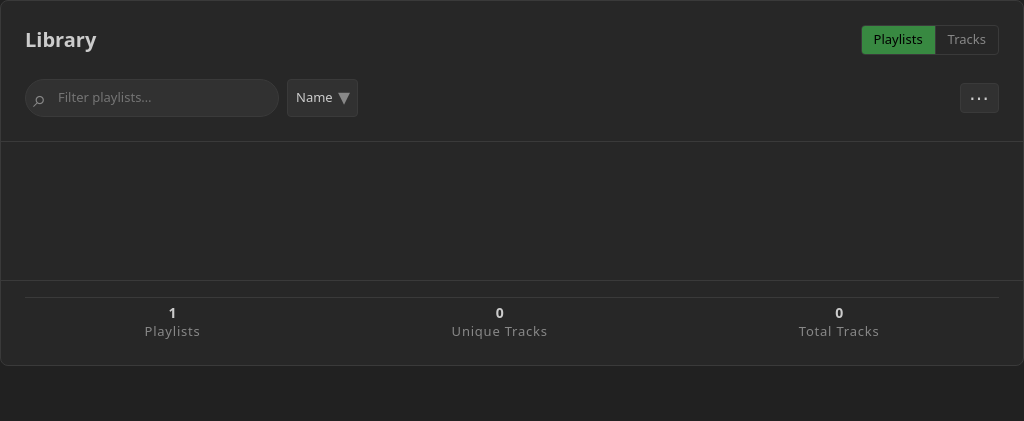
Test: LibraryCard › shows no-match empty state when playlist query has no results
The image size is (1024, 421).
Type "zzz" into the search field with class "search-bar__input" at (152,98), box 25,79 -> 279,116
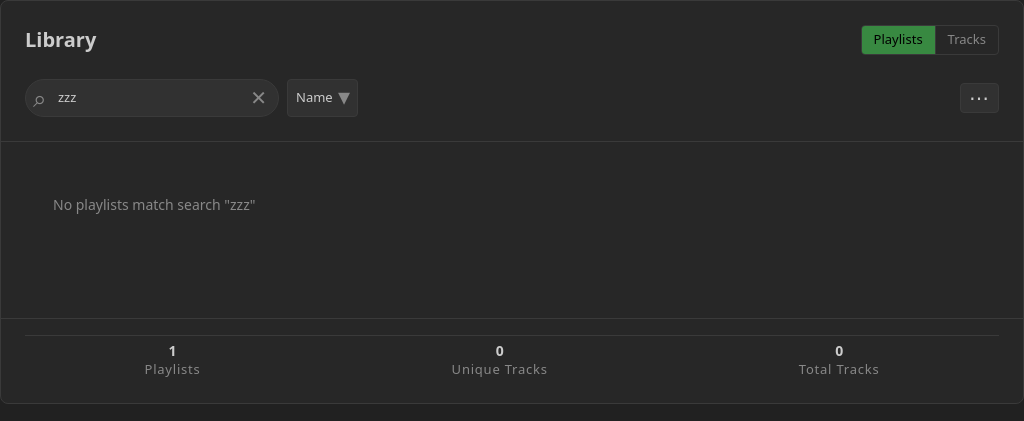
Result: the text "No playlists match search" is shown at 53,194 -> 256,214
